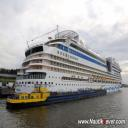cruises: (15, 27, 124, 105)
